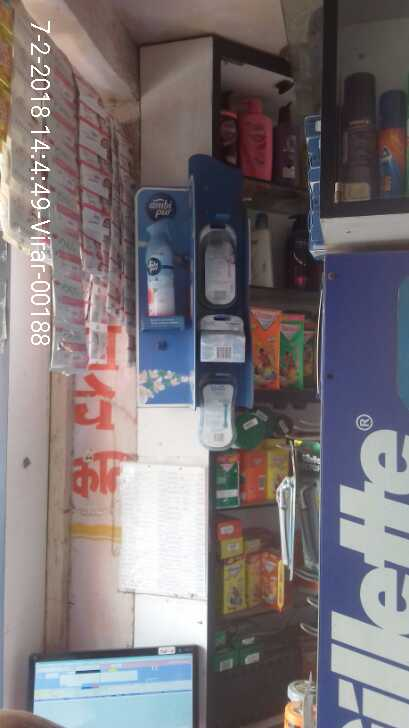home: (144, 216, 181, 316)
